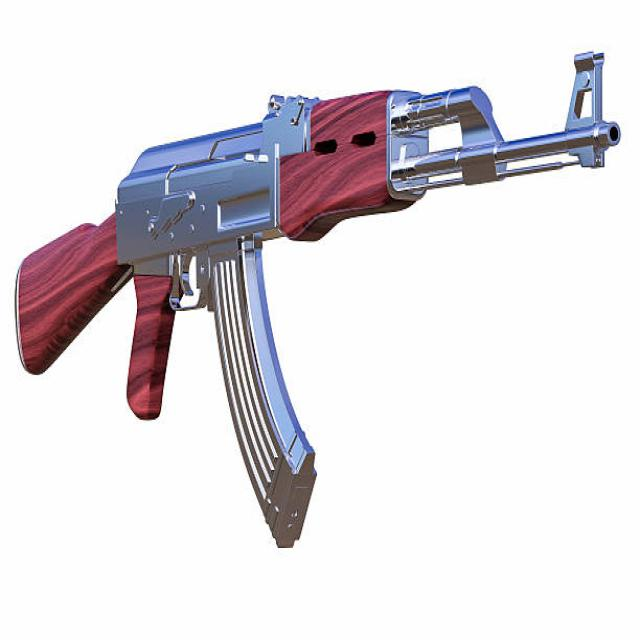rifle: (6, 39, 624, 558)
